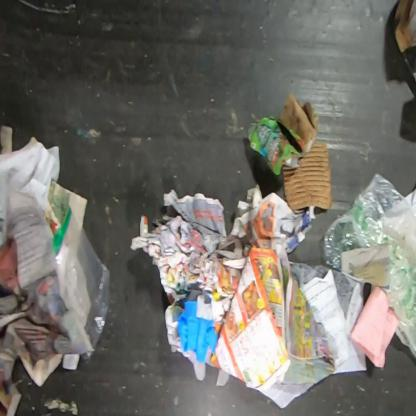cardboard: (246, 92, 318, 177), (282, 140, 333, 211), (392, 0, 415, 89)
soft_plastic: (320, 171, 416, 361), (52, 204, 112, 352), (80, 351, 94, 363)
